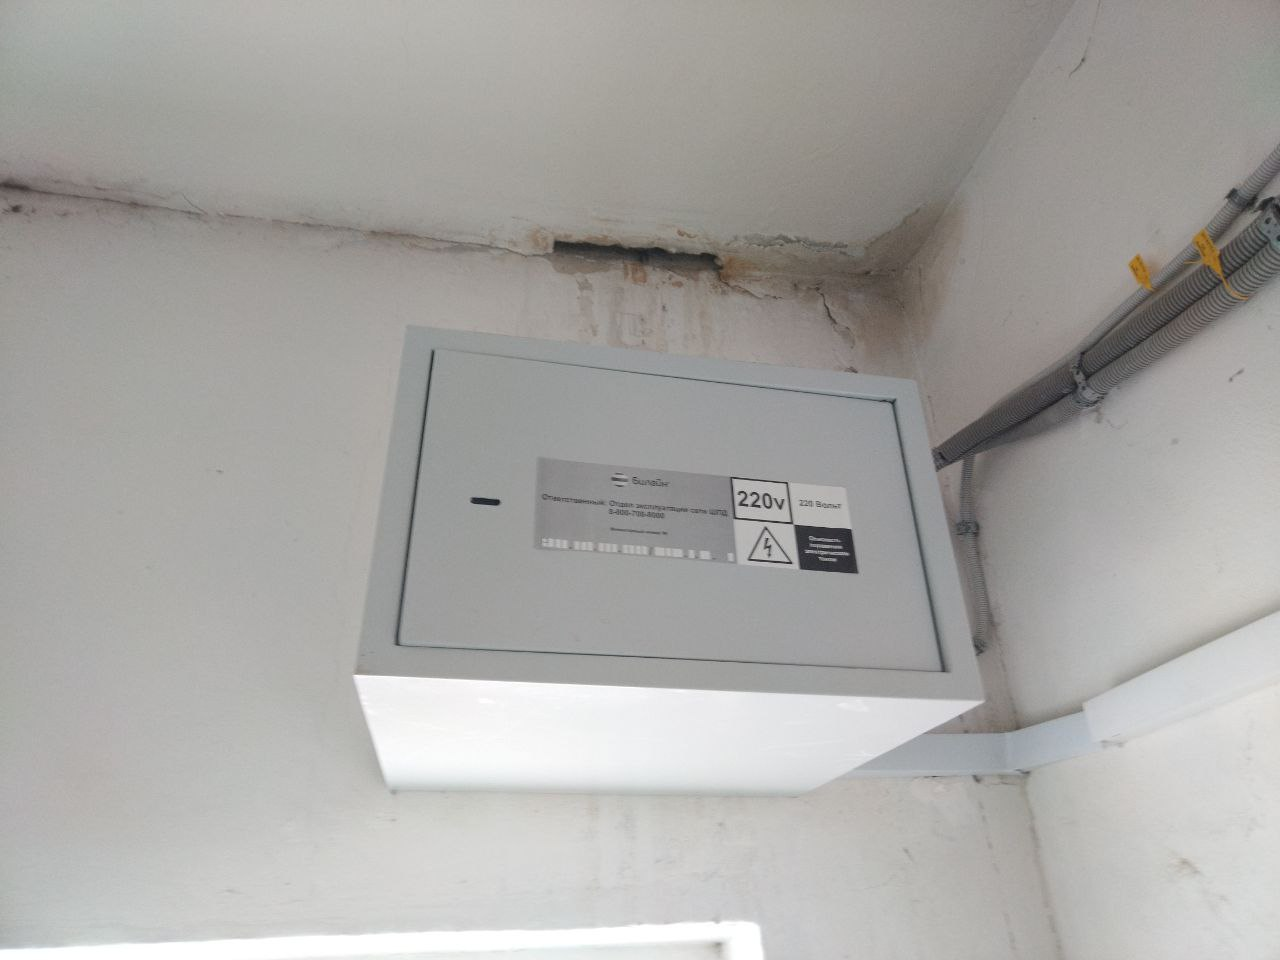shta-7m: (339, 312, 996, 815)
